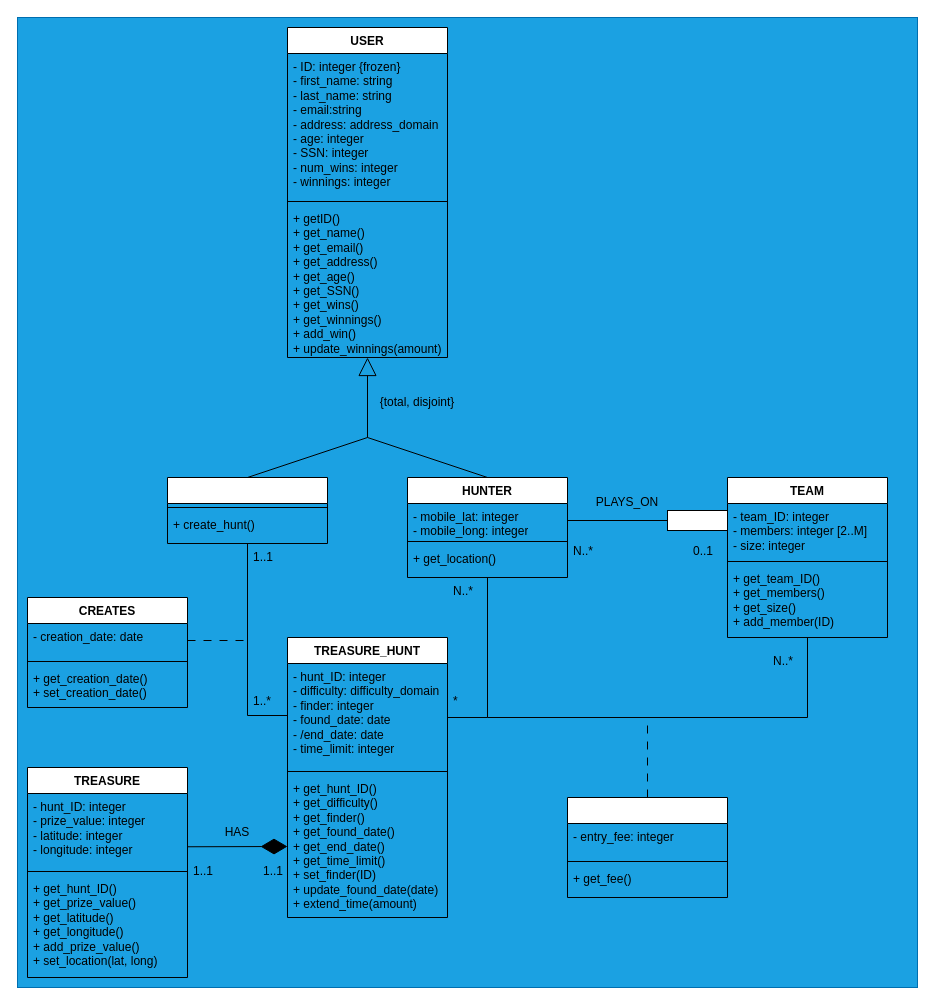
Image size: 935x1005. Some labels were removed from this diagram. Each missing label, with the box of its shape:
CREATOR: (166, 476, 328, 544)
HUNTS_IN: (566, 796, 728, 898)
team_ID: (666, 510, 728, 530)
